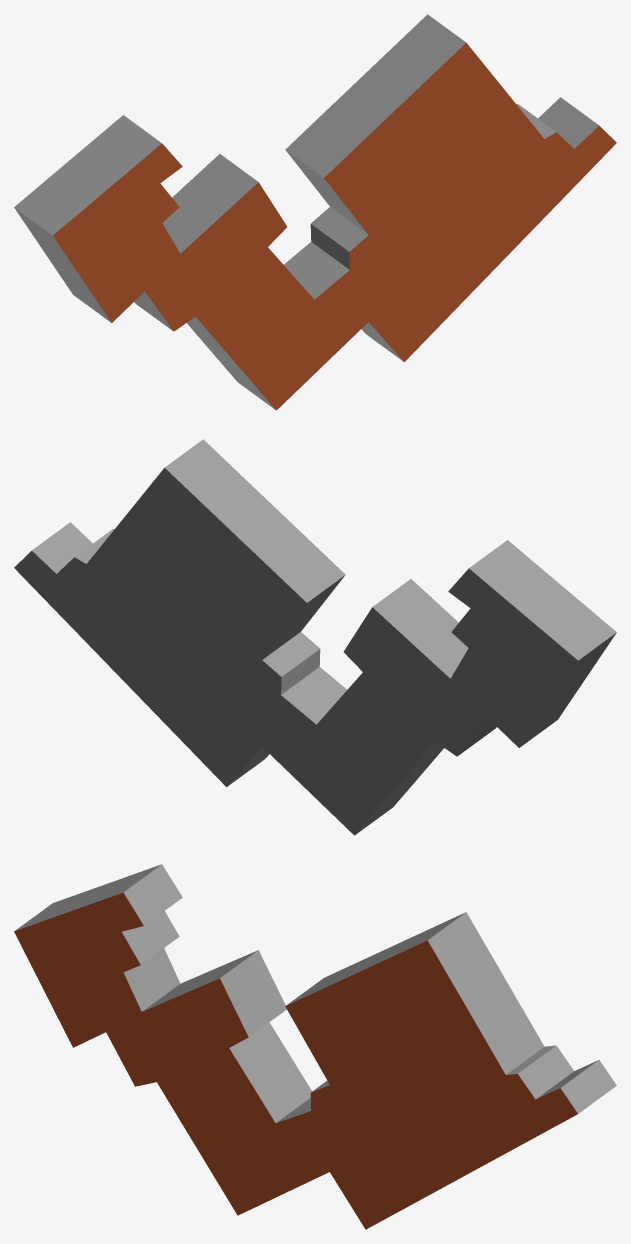
Rendered from construction_4697_assumed_A_Casa_h6m.obj.
3 views of the same model, one above another, from view 1: azimuth 30°, elevation 25°; view 2: azimuth 150°, elevation 25°; view 3: azimuth 330°, elevation 25° (orthographic).
Parts seen in each view (by area): view 1: construction_4697_assumed_A_Casa; view 2: construction_4697_assumed_A_Casa; view 3: construction_4697_assumed_A_Casa.
Boxes of the visible parts, x1,y1,x2,y2 form: construction_4697_assumed_A_Casa: (14, 14, 616, 410); construction_4697_assumed_A_Casa: (14, 439, 616, 835); construction_4697_assumed_A_Casa: (14, 864, 616, 1229).
Bounding box in the file's own units: 50.42 × 27.48 × 6.
